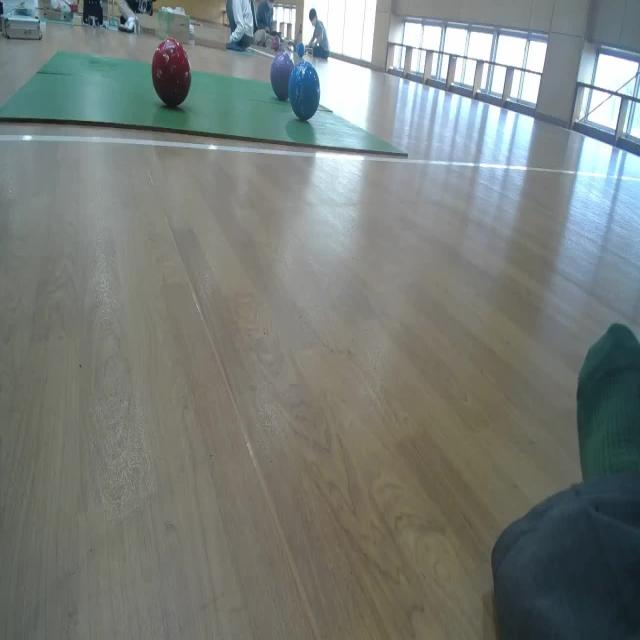blue_ball: (286, 55, 321, 120)
purple_ball: (268, 48, 300, 98)
red_ball: (152, 40, 192, 107)
